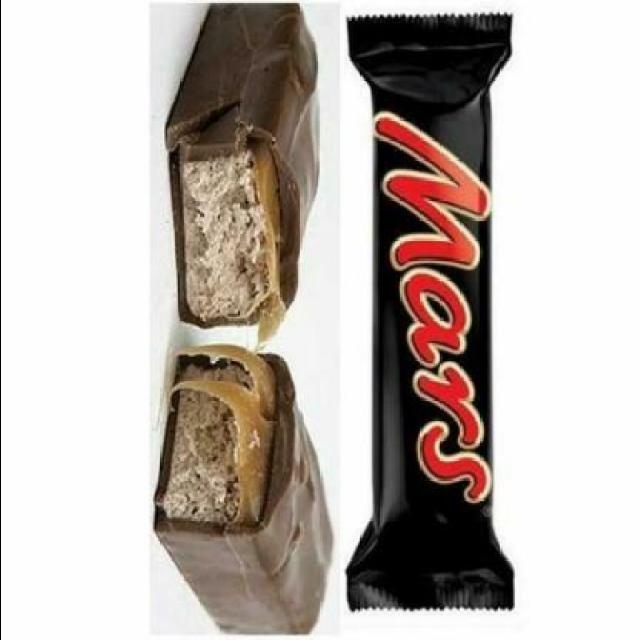Chocolate bar: (344, 10, 518, 622)
Chocolate bar packaged: (157, 3, 328, 332), (150, 341, 336, 639)
